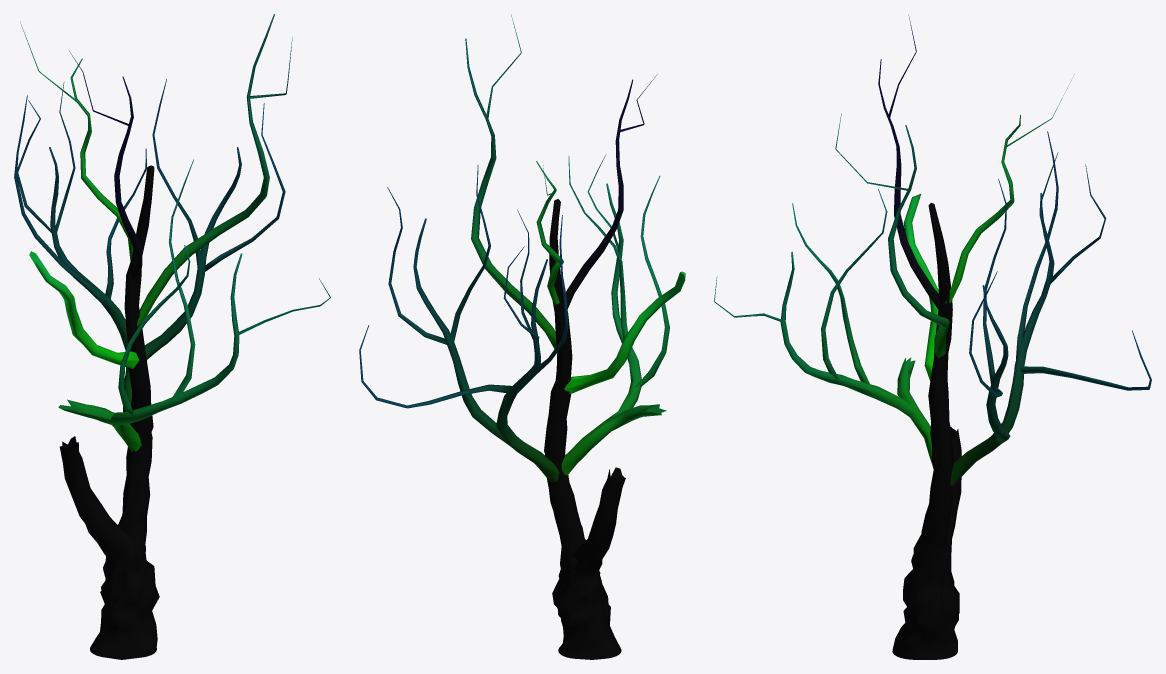
Rendered from OldTree.fbx.
The picture shows the model from 3 angles, left to right: view 1: azimuth 30°, elevation 25°; view 2: azimuth 150°, elevation 25°; view 3: azimuth 270°, elevation 25°; orthographic projection. The views are drawn at different scales.
Visible parts, largest first — view 1: Tree_0; view 2: Tree_0; view 3: Tree_0.
Boxes of the visible parts, bbox=[...] form: Tree_0: bbox=[14, 14, 330, 659]; Tree_0: bbox=[359, 14, 685, 659]; Tree_0: bbox=[714, 15, 1151, 659].
Size of the model in its own units: 187 by 399 by 257.
